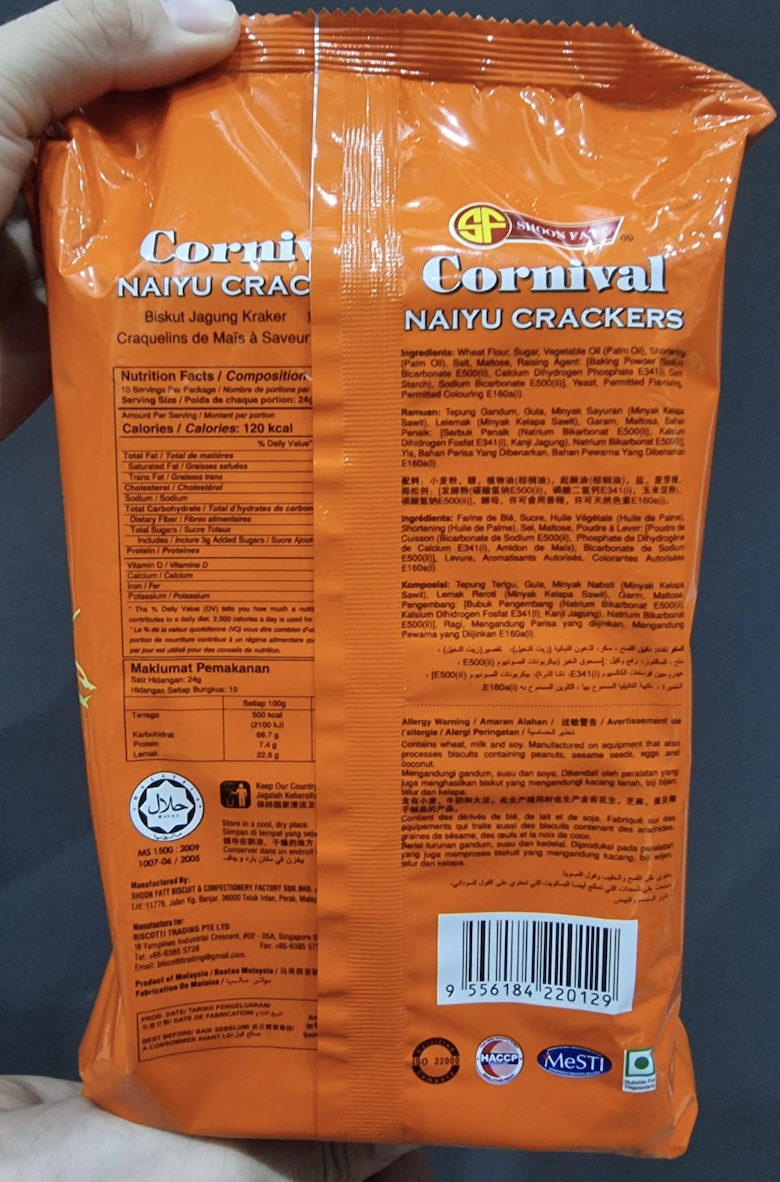Halal: (142, 789, 196, 822)
